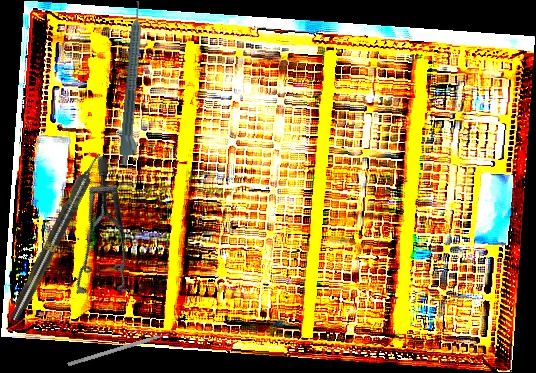Chopper: (67, 329, 178, 373)
Handpiece: (6, 149, 106, 324), (117, 0, 152, 167)
Speculum: (29, 154, 184, 317)
